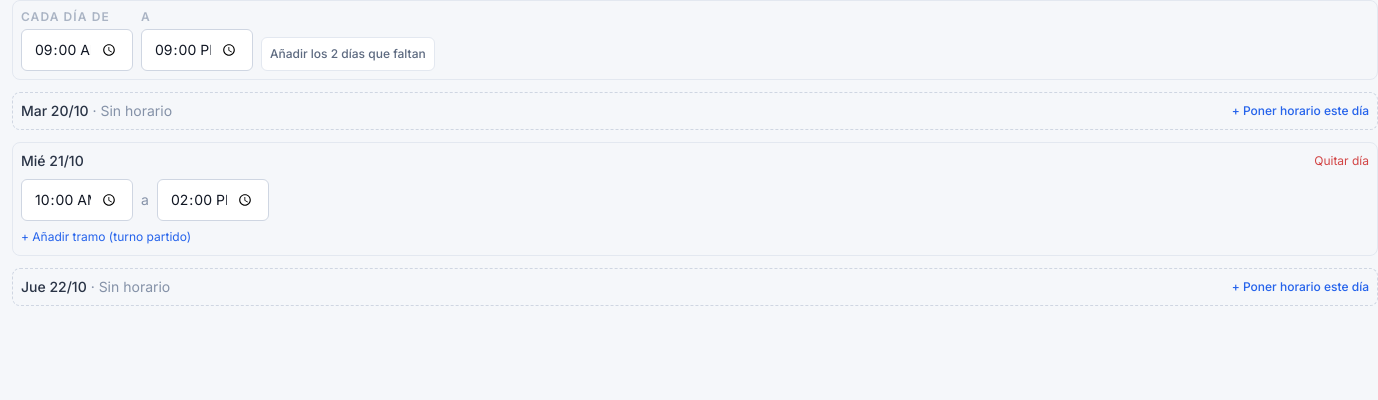
Test: HorarioJornadas › turno partido: «+ Añadir tramo» empieza donde acaba el anterior
The width and height of the screenshot is (1378, 400).
Click the button "+ Añadir tramo (turno partido)" at (106, 237), box [21,229,191,245]
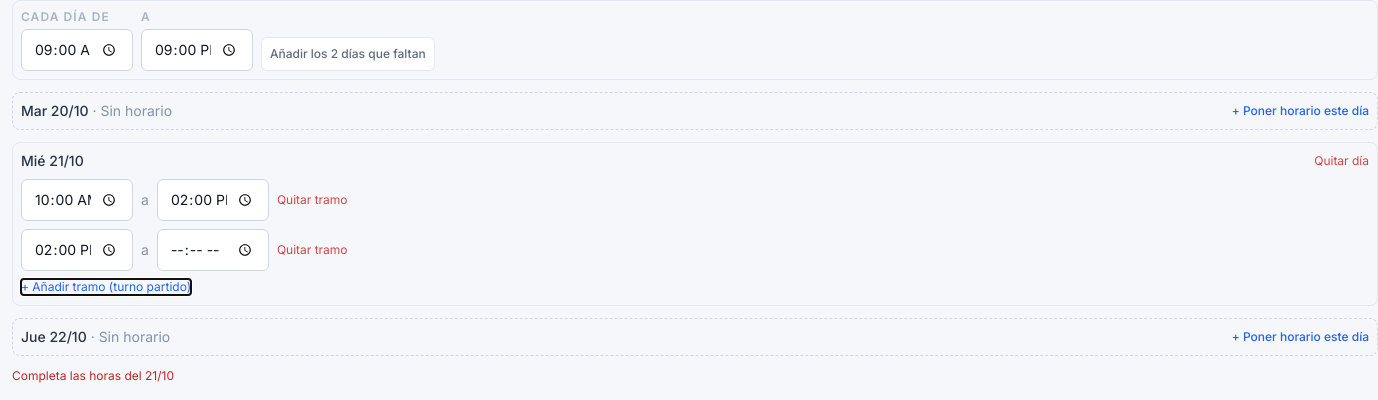
Expected: the button "Añadir los 2 días que faltan" is shown, [261,37,435,71]
Now the number of buttons "Quitar tramo" is 2, box [277,192,348,208]; [277,242,348,258]
